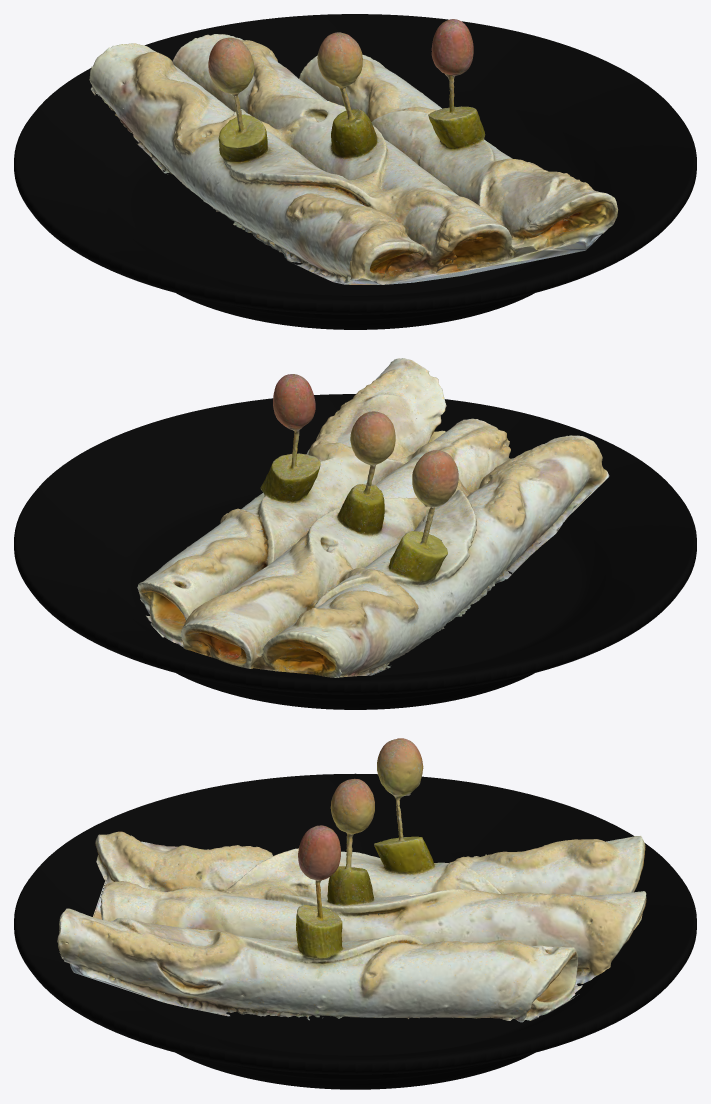
File: kalbas.glb
3 renders of one model, top to bottom at view 1: azimuth 30°, elevation 25°; view 2: azimuth 150°, elevation 25°; view 3: azimuth 270°, elevation 25°, orthographic.
Visible parts, largest first — view 1: Tarelka, kalbas; view 2: Tarelka, kalbas; view 3: kalbas, Tarelka.
Part boxes in pixels (bbox=[...]): Tarelka: bbox=[14, 14, 696, 329]; kalbas: bbox=[89, 19, 618, 284]; Tarelka: bbox=[14, 394, 696, 709]; kalbas: bbox=[137, 358, 609, 677]; kalbas: bbox=[57, 738, 646, 1022]; Tarelka: bbox=[14, 773, 696, 1089].
Size of the model in its own units: 0.0606 by 0.0201 by 0.0606.
2 materials, 1 textured.
